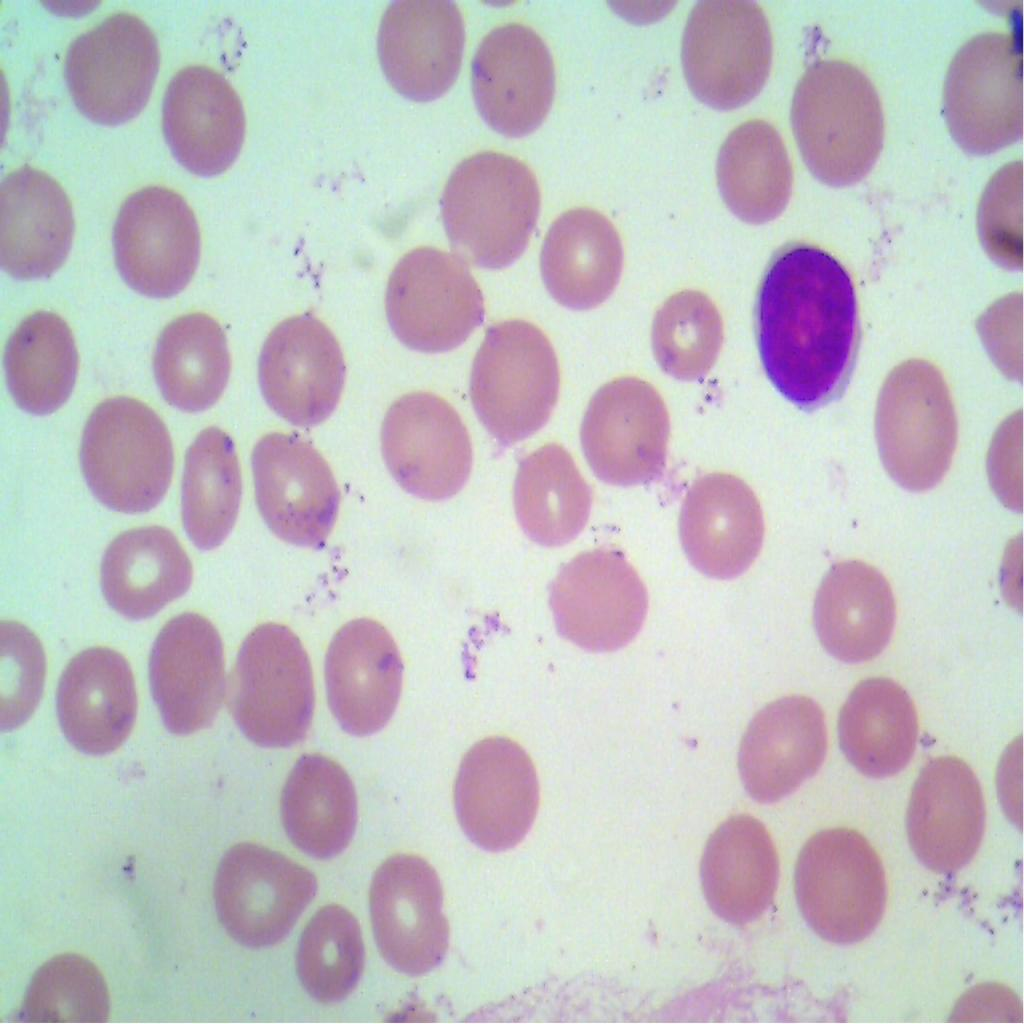Eritrosit: (68, 385, 182, 525), (786, 47, 896, 188), (791, 814, 899, 950), (372, 232, 486, 358), (436, 138, 543, 271), (689, 798, 790, 937), (462, 17, 562, 154), (540, 539, 654, 657), (223, 619, 324, 751), (673, 461, 775, 589), (806, 550, 909, 676), (868, 358, 959, 500), (58, 11, 164, 131), (210, 836, 321, 950), (379, 382, 474, 515), (531, 195, 633, 318), (155, 61, 251, 189), (249, 428, 346, 554), (704, 106, 799, 234), (738, 682, 834, 808), (368, 844, 458, 977), (468, 314, 561, 442), (48, 638, 142, 764), (678, 0, 778, 118), (579, 370, 671, 498), (938, 24, 1024, 157), (108, 180, 204, 299), (906, 751, 992, 878), (253, 314, 346, 431), (451, 735, 541, 855), (830, 664, 926, 776), (144, 607, 230, 731), (276, 741, 366, 858), (94, 521, 198, 622), (368, 0, 466, 106), (639, 285, 736, 390), (4, 307, 88, 428), (506, 436, 594, 550), (328, 616, 410, 738), (174, 422, 250, 552), (144, 308, 235, 414), (0, 167, 78, 278), (293, 897, 369, 1004)
Limfosit: (748, 238, 873, 415)
